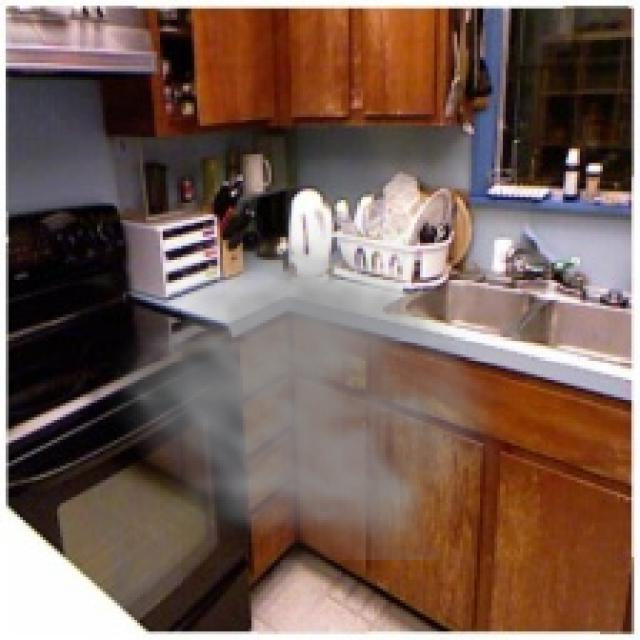smoke: (100, 203, 517, 560)
